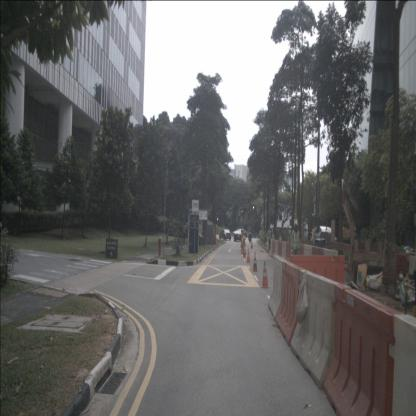human-pedestrian-adult: (182, 221, 187, 245)
movable_object-barrier: (323, 284, 402, 416), (290, 270, 342, 391), (290, 254, 348, 302), (389, 314, 416, 416), (276, 261, 306, 347), (268, 254, 290, 320), (323, 248, 339, 271), (392, 253, 407, 274), (312, 246, 323, 269), (302, 244, 313, 262), (284, 242, 292, 266), (408, 254, 416, 276), (280, 241, 288, 262), (273, 240, 279, 260), (270, 239, 276, 258), (268, 239, 274, 257), (278, 240, 283, 261), (299, 243, 304, 260), (214, 233, 217, 244)
movable_object-trafficcone: (260, 260, 270, 288), (252, 251, 258, 272), (242, 244, 246, 258), (247, 248, 250, 263), (250, 241, 253, 249)
vehicle-car: (219, 229, 231, 241), (233, 228, 247, 238), (234, 230, 242, 242)
vehicle-motorcycle: (248, 229, 252, 243)
